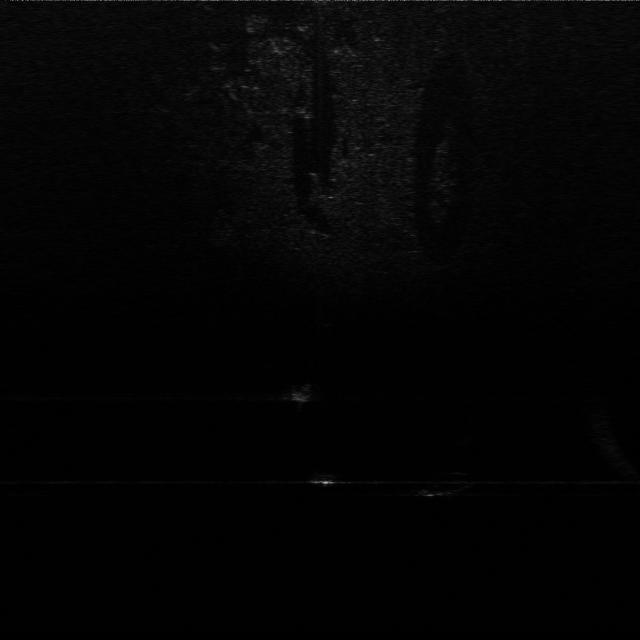cube: (303, 469, 353, 489)
square cage: (279, 382, 322, 406)
tyre: (414, 467, 482, 498)
